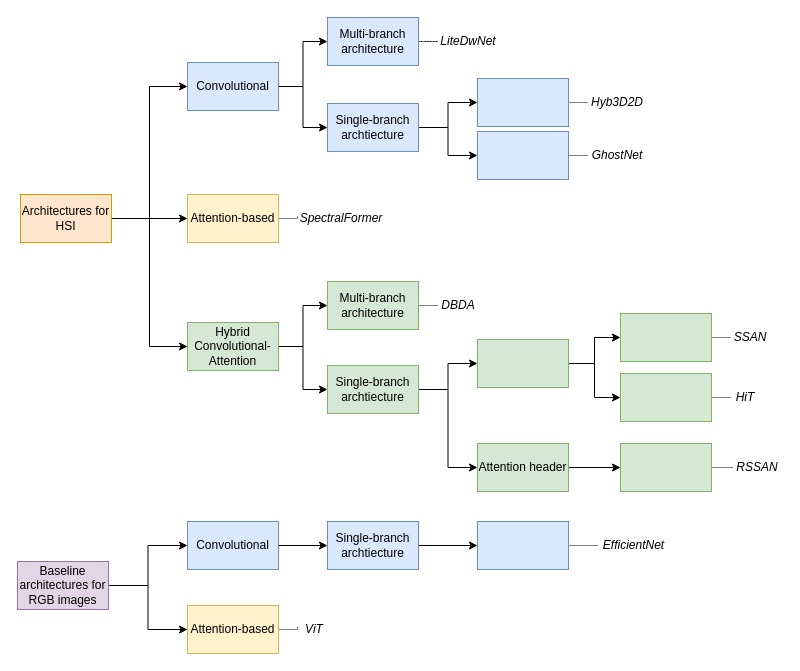
Some shapes in this 800 by 671 pixel diagram are drawn without their labels. Here are the shapes that lost their labels. From the top down, the box of each, then its label:
(476, 78, 568, 126): 3D-2D convolutions
(476, 130, 568, 180): ResNet-based
(620, 312, 712, 362): Dissociated convolutions and attentions
(476, 338, 568, 388): Convolutional header
(620, 372, 712, 422): Integrated convolutions and attentions
(620, 442, 712, 492): Interleaved convolutions and attentions
(476, 520, 568, 570): 2D convolutions
